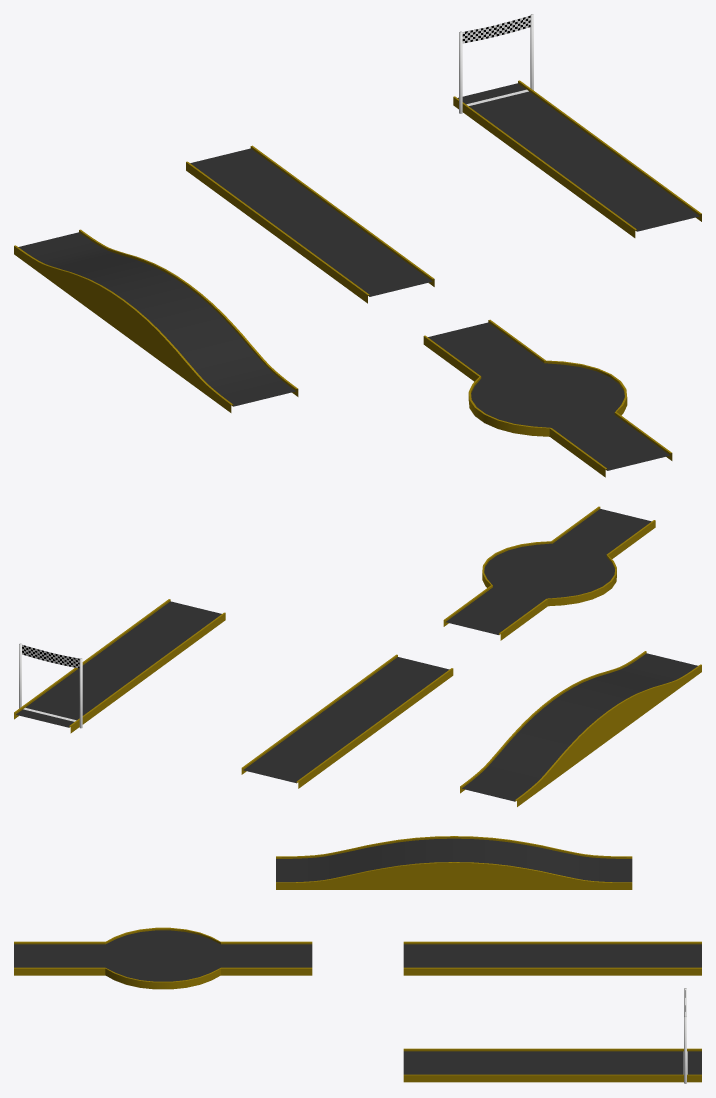
Rendered from TrackParts_Scale50 1.fbx.
3 views of the same model, one above another, from view 1: azimuth 30°, elevation 25°; view 2: azimuth 150°, elevation 25°; view 3: azimuth 270°, elevation 25° (orthographic). The views are drawn at different scales.
Parts seen in each view (by area): view 1: Bridge.004, Circle.003, Finish.004, Straight.007, Banner.004; view 2: Bridge.004, Circle.003, Finish.004, Straight.007, Banner.004; view 3: Bridge.004, Circle.003, Finish.004, Straight.007.
Boxes of the visible parts, x1,y1,x2,y2 form: Bridge.004: (14,229,298,412); Circle.003: (423,319,672,477); Finish.004: (453,14,701,237); Straight.007: (186,145,434,303); Banner.004: (462,15,530,43); Bridge.004: (460,651,701,806); Circle.003: (443,506,655,640); Finish.004: (14,599,225,733); Straight.007: (241,654,453,788); Banner.004: (22,644,79,668); Bridge.004: (276,836,632,889); Circle.003: (14,927,312,989); Finish.004: (403,988,701,1083); Straight.007: (403,941,701,975).
Size of the model in its own units: 8022 by 1127 by 10560.
